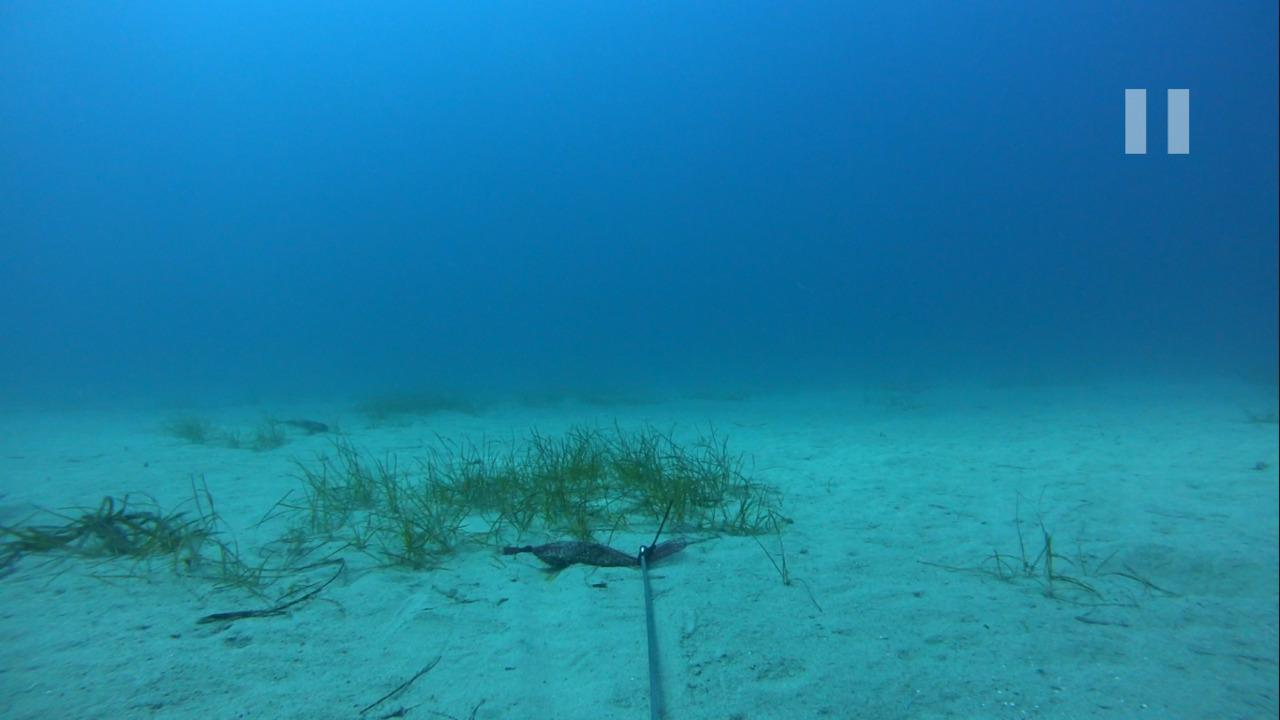dactylopterus: (260, 407, 345, 443)
